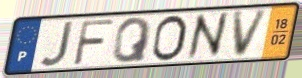F: (71, 18, 117, 67)
J: (38, 19, 76, 69)
N: (185, 10, 230, 62)
O: (149, 13, 189, 63)
Q: (111, 16, 154, 65)
V: (231, 8, 271, 60)
